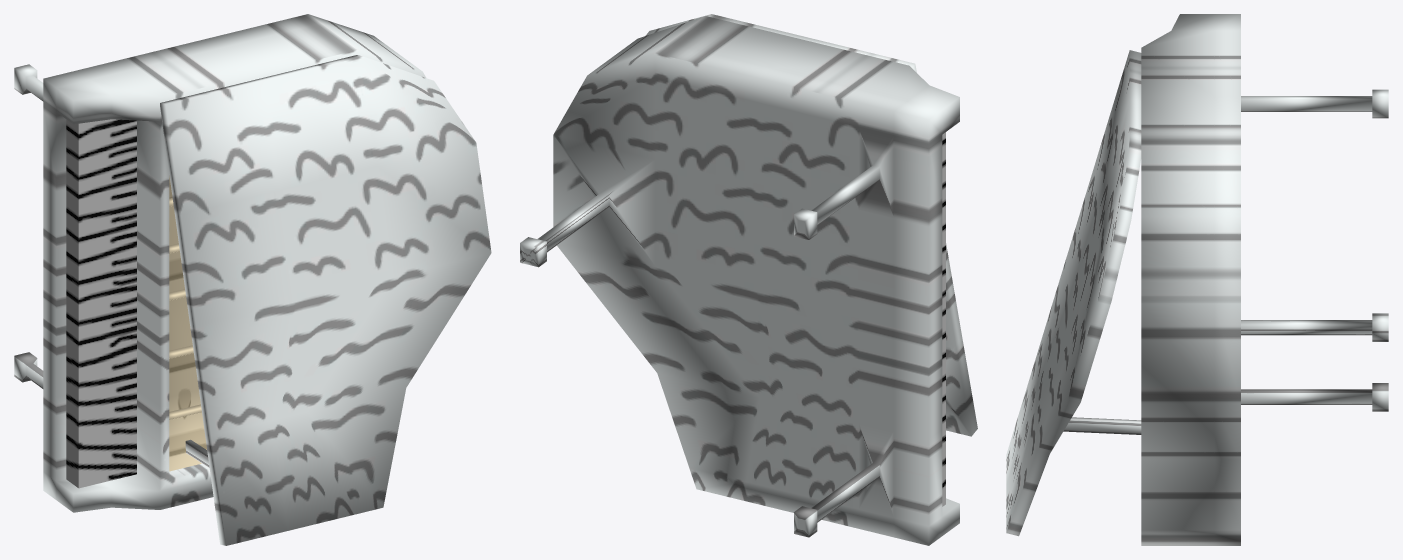
Rendered from item-piano.glb.
The picture shows the model from 3 angles, left to right: view 1: azimuth 30°, elevation 25°; view 2: azimuth 150°, elevation 25°; view 3: azimuth 270°, elevation 25°; orthographic projection. The views are drawn at different scales.
Bounding box in the file's own units: 1.84 × 2 × 1.65.
3 materials, 3 textured.
